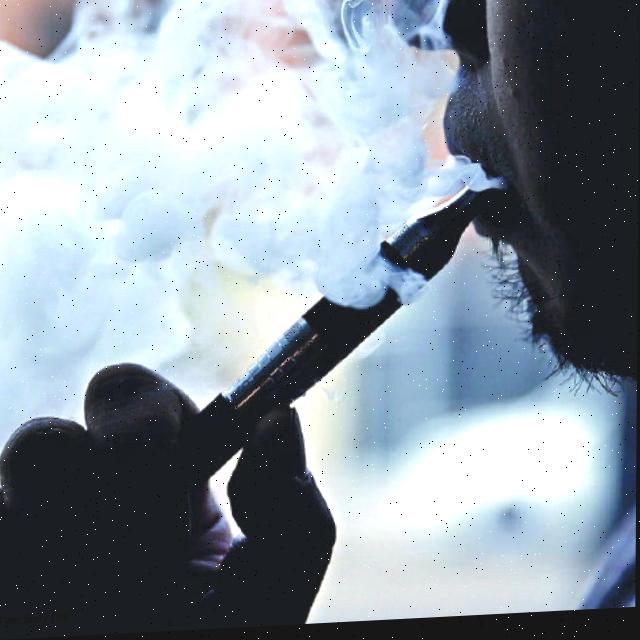vape: (196, 191, 482, 495)
